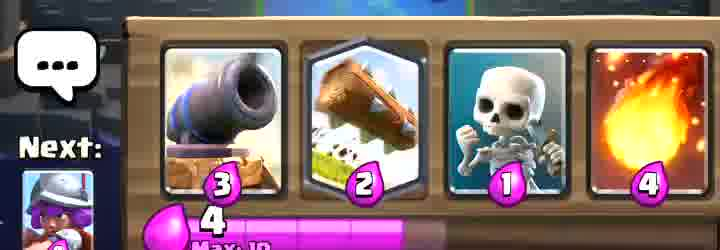cannon: (169, 51, 282, 200)
fireball: (595, 47, 710, 195)
musketeer: (24, 171, 93, 250)
skeleton: (451, 50, 567, 204)
